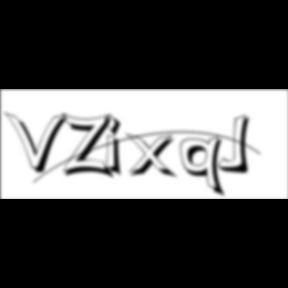J: (217, 114, 256, 176)
V: (4, 110, 72, 176)
Z: (62, 112, 118, 181)
i: (105, 112, 129, 180)
q: (180, 135, 230, 200)
x: (126, 132, 180, 181)
